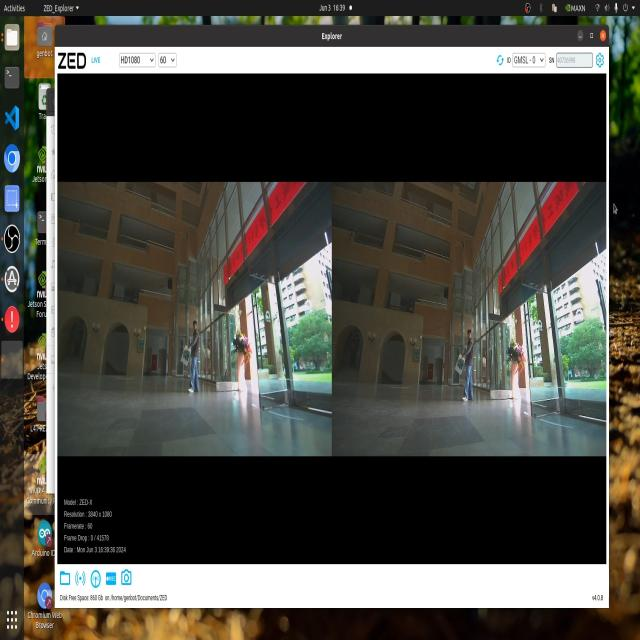green: (181, 348, 191, 368), (454, 356, 464, 374)
